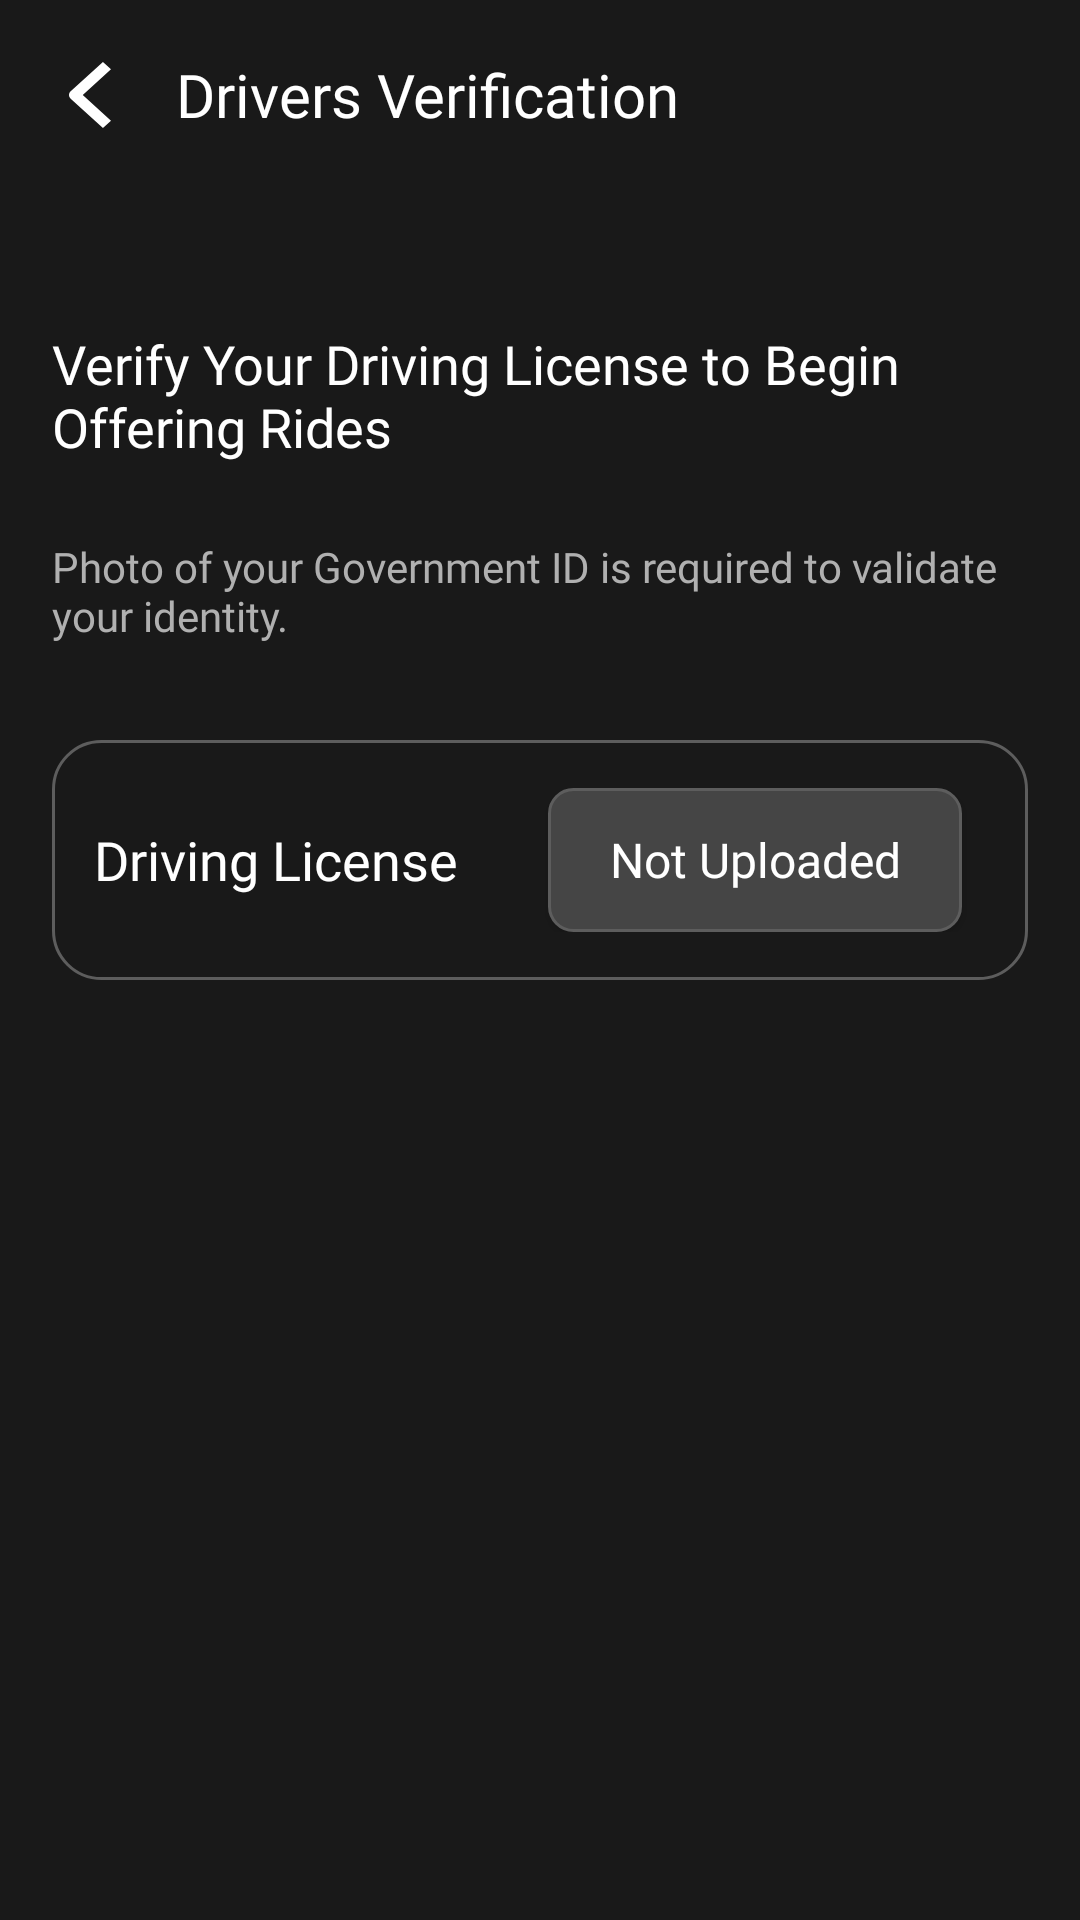

Point at icon controls on the screen. Image size 1080px x 1920px, points as (x=x, y=y).
Back button: (x=90, y=95)
